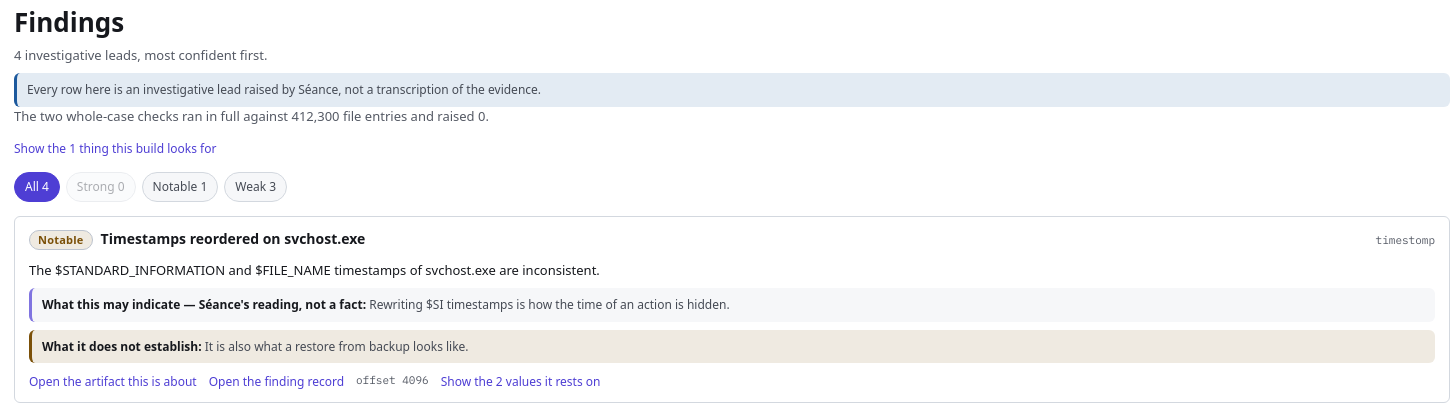
Test: FindingsPage (§2.2) › reports a disagreement between the counts and the list rather than explaining it away
Expected: the element with test id "fnd-card" is shown, [14,216,1450,403]
Click the button "Weak 3".
click(256, 187)  # box [224,172,287,202]
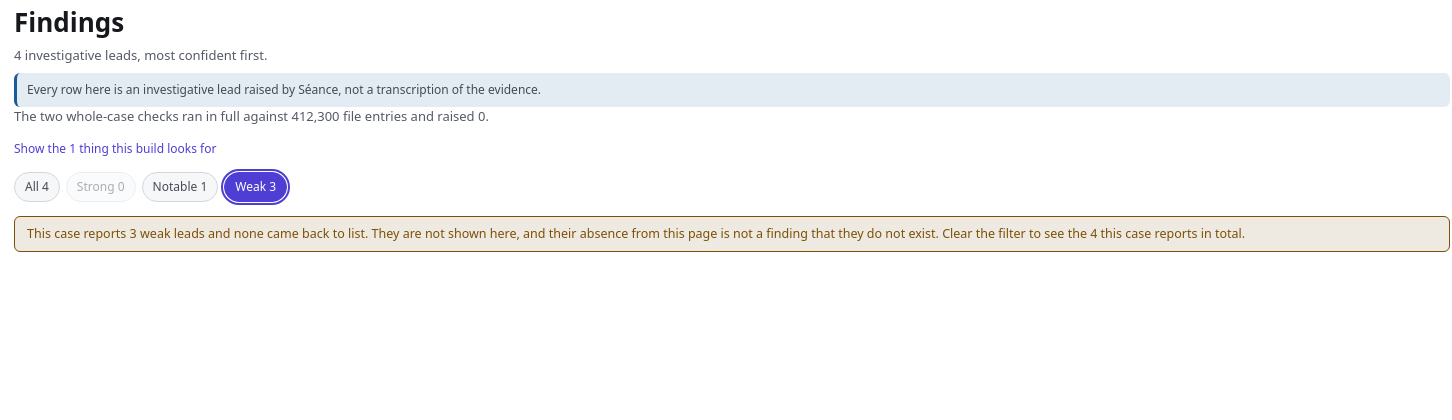
Expected: the text with test id "fnd-none-returned" shows "reports 3 weak leads and none came back", [14,216,1450,252]
Expected: the text with test id "fnd-none-returned" shows "is not a finding that they do not exist", [208,225,1090,242]
Expected: no elements with test id "fnd-card" are shown
